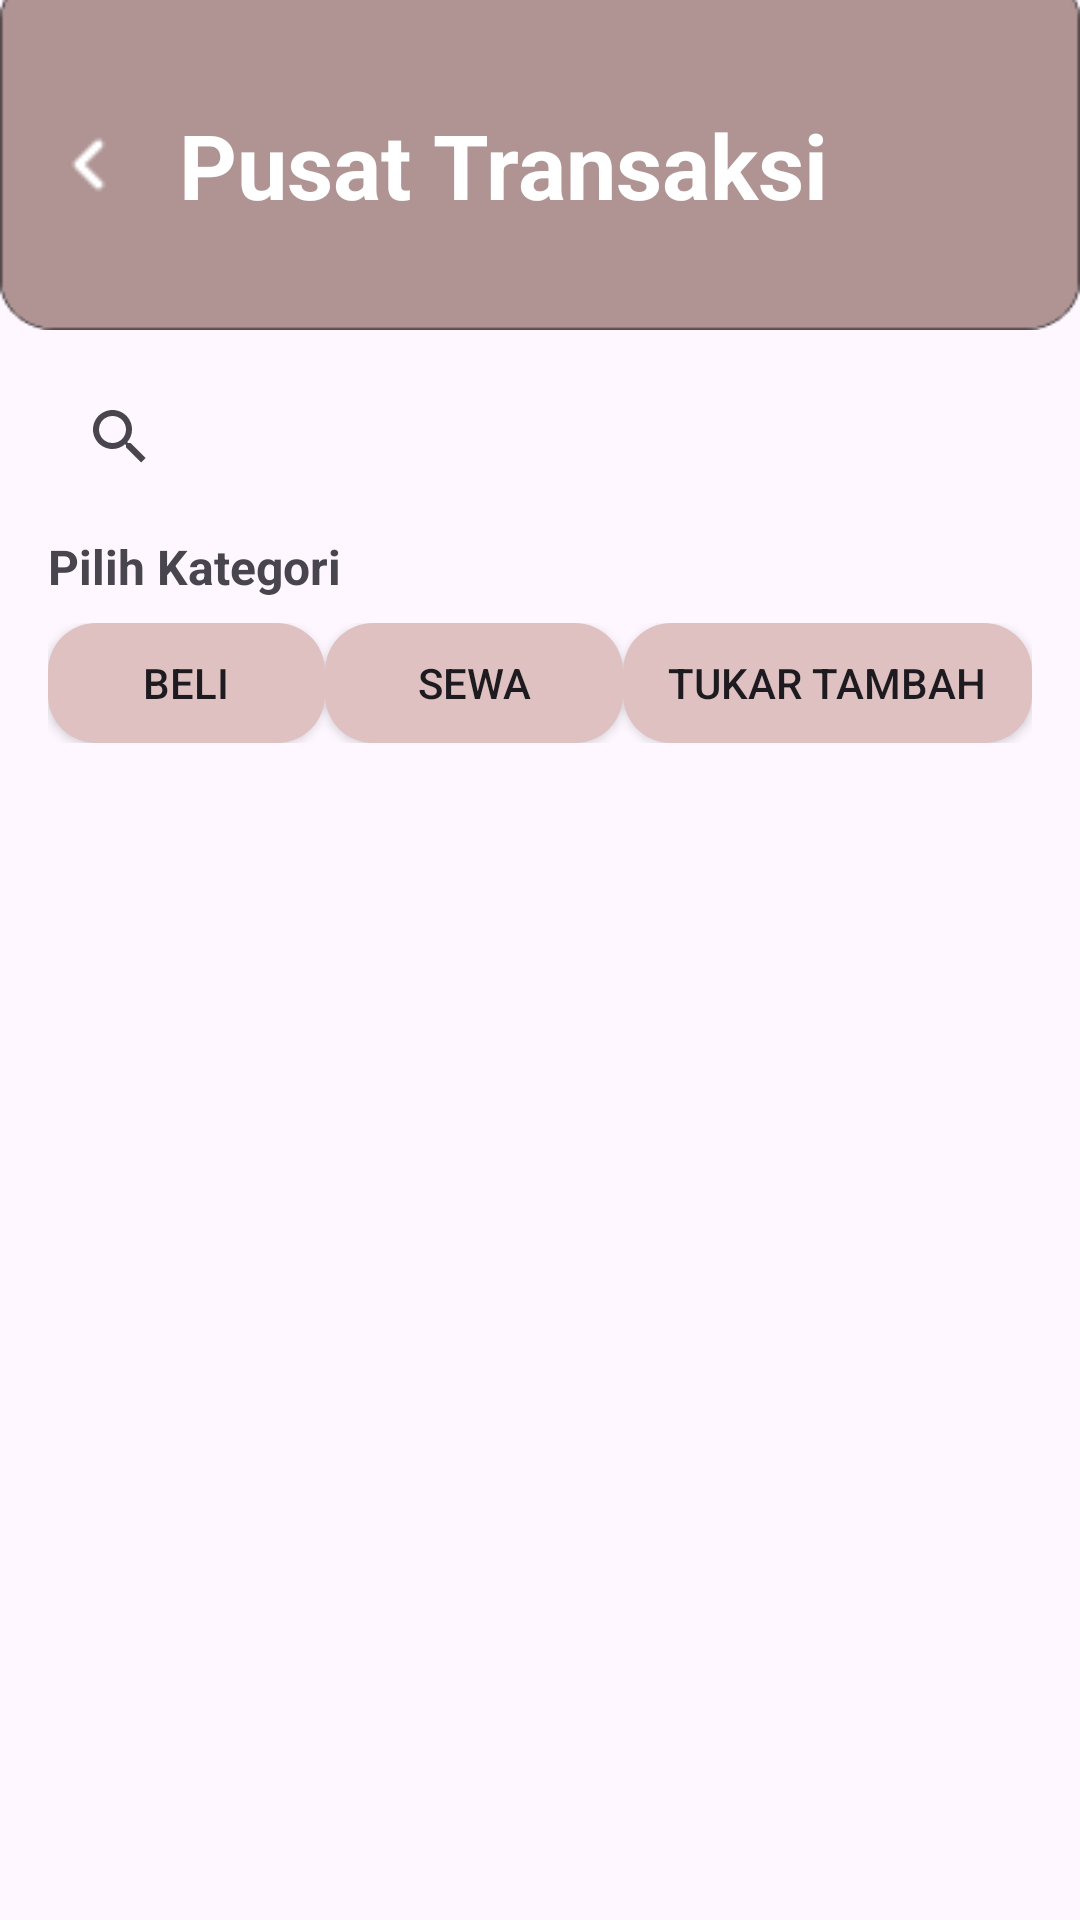

Icon click points for this 1080 × 1920 phone screenshot, format point (x, y):
panahkiri: point (88, 164)
